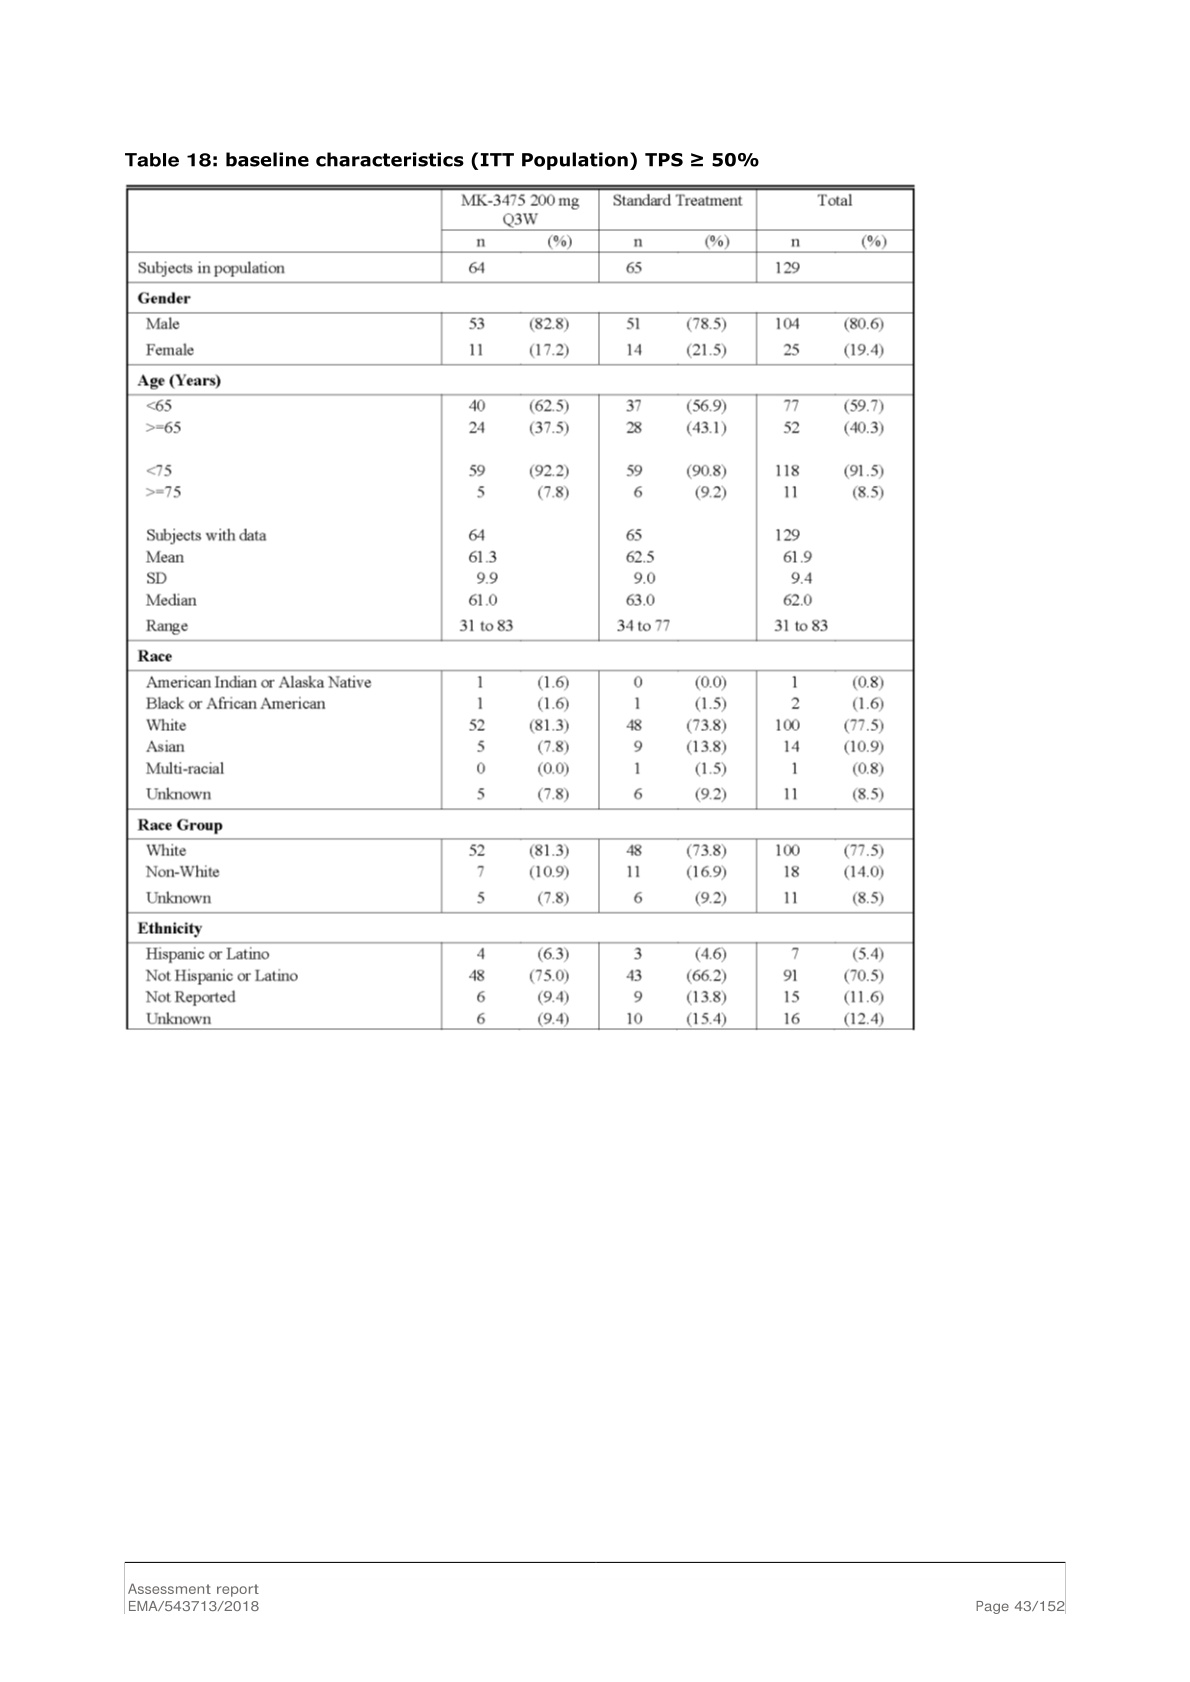merged_cells: (125, 184, 917, 1032)
